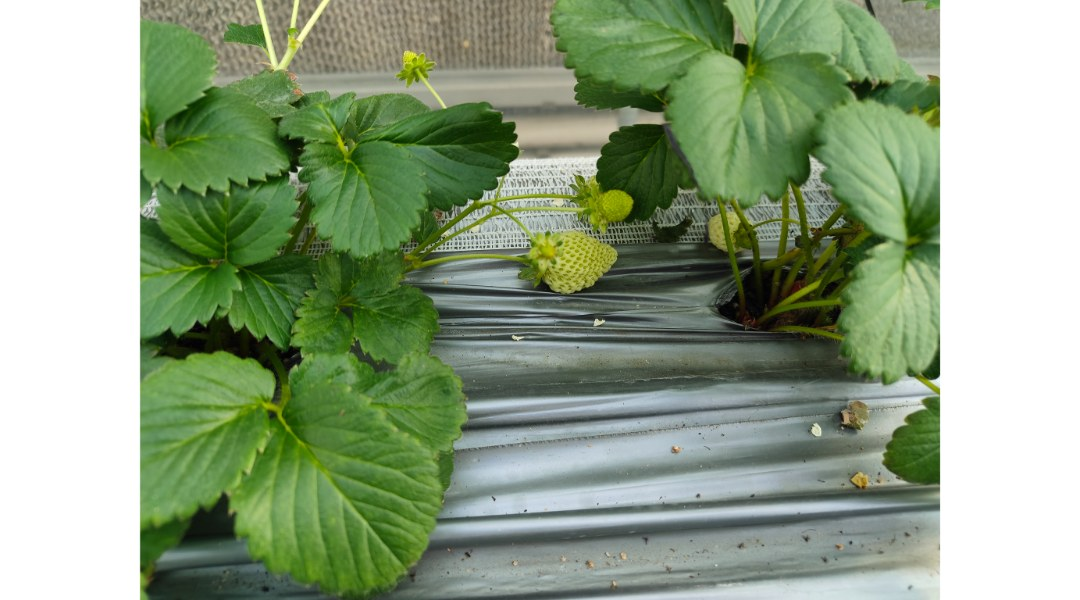berry: (520, 232, 621, 296), (571, 176, 638, 234), (703, 211, 760, 253)
strain: (409, 197, 483, 249), (716, 201, 743, 313), (424, 253, 522, 270), (490, 188, 582, 206), (503, 204, 589, 221), (443, 214, 493, 243)
